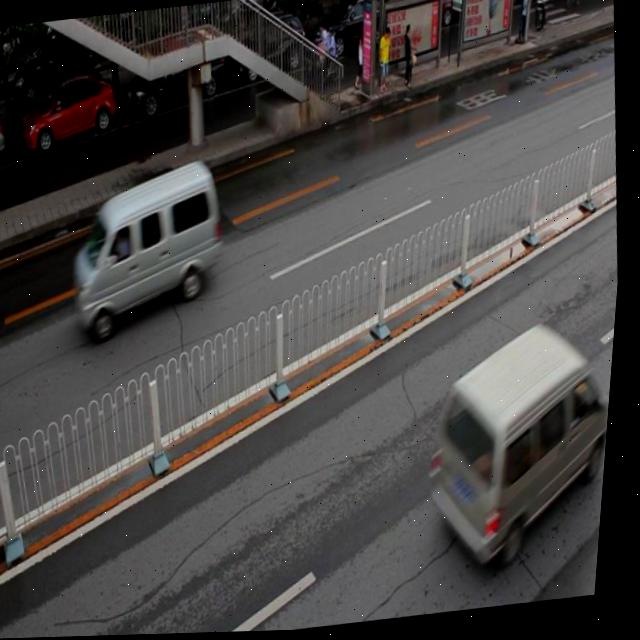car: (19, 71, 123, 153), (126, 49, 230, 114), (224, 18, 313, 89), (310, 0, 398, 64), (0, 103, 16, 173)
truck: (419, 317, 621, 577), (63, 154, 235, 343)
